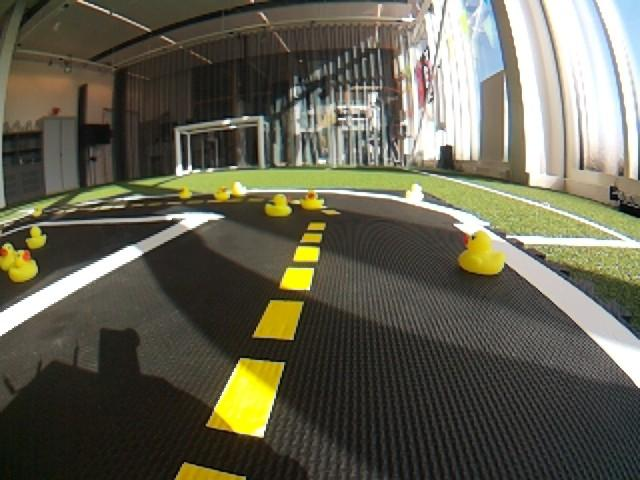Duckies: (458, 230, 509, 275), (9, 251, 38, 283), (264, 194, 293, 216), (0, 242, 21, 271), (301, 189, 324, 210), (26, 226, 47, 247), (406, 184, 424, 202), (214, 186, 230, 202), (231, 181, 246, 196), (178, 186, 192, 198), (32, 206, 42, 218)
